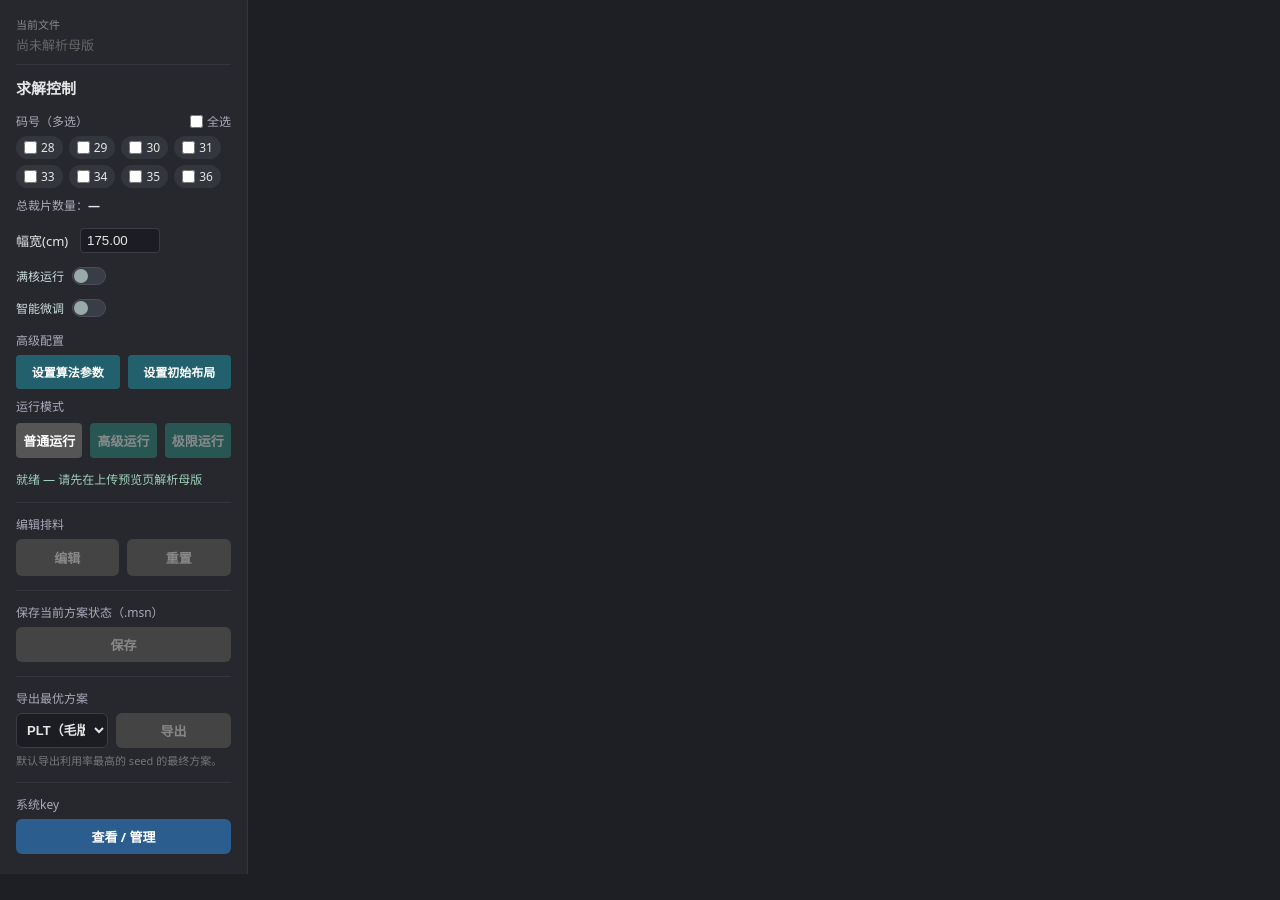
Test: NestingPage warm_state 状态行轻提示 (US-007) › final warm_state.engaged=false → 状态行无热启动尾缀 + toast 中文降级（互补不重复）
Click the checkbox with id "sz_28" at (30, 148), box [24,141,37,154]
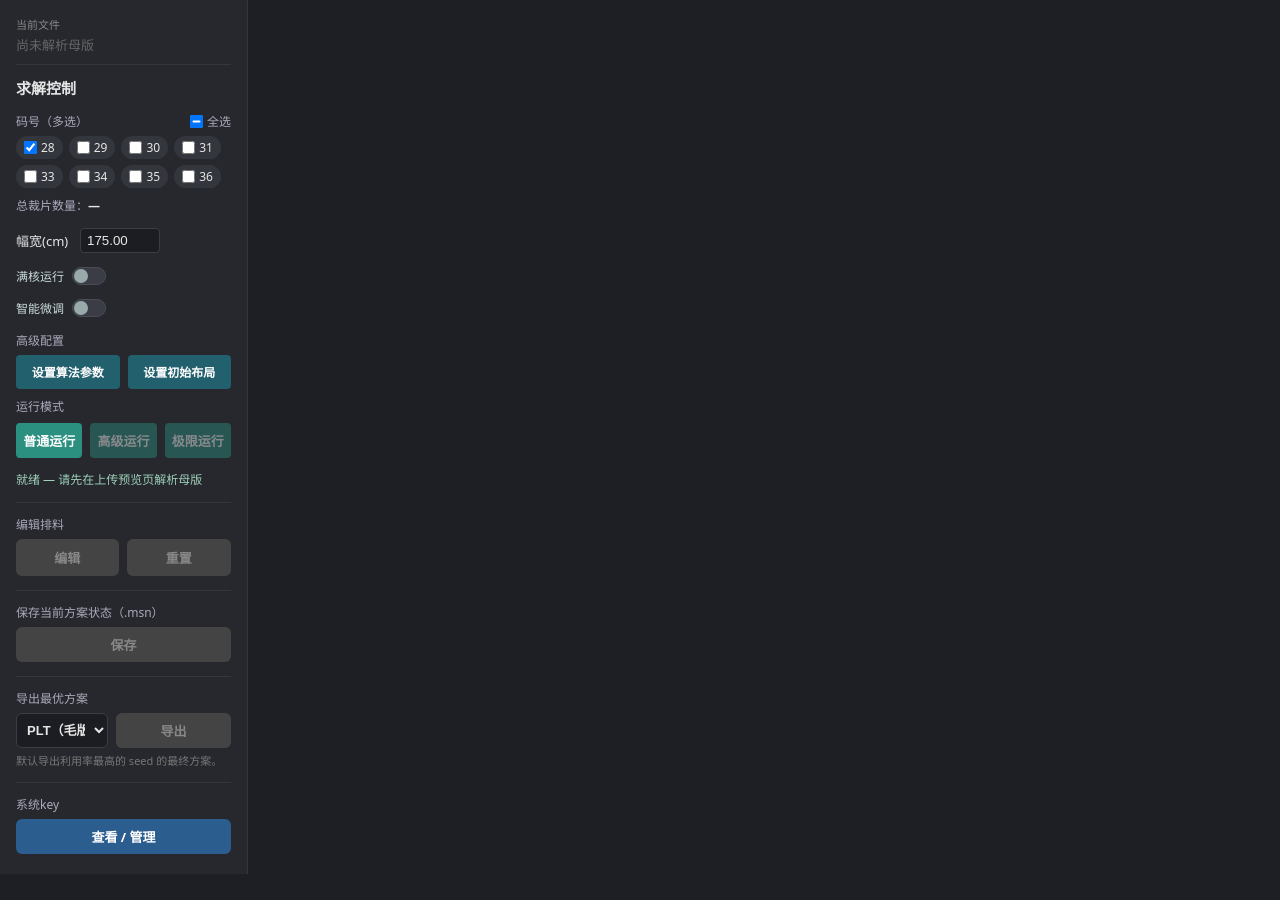
Click the button with id "start" at (49, 440), box [16,423,82,458]
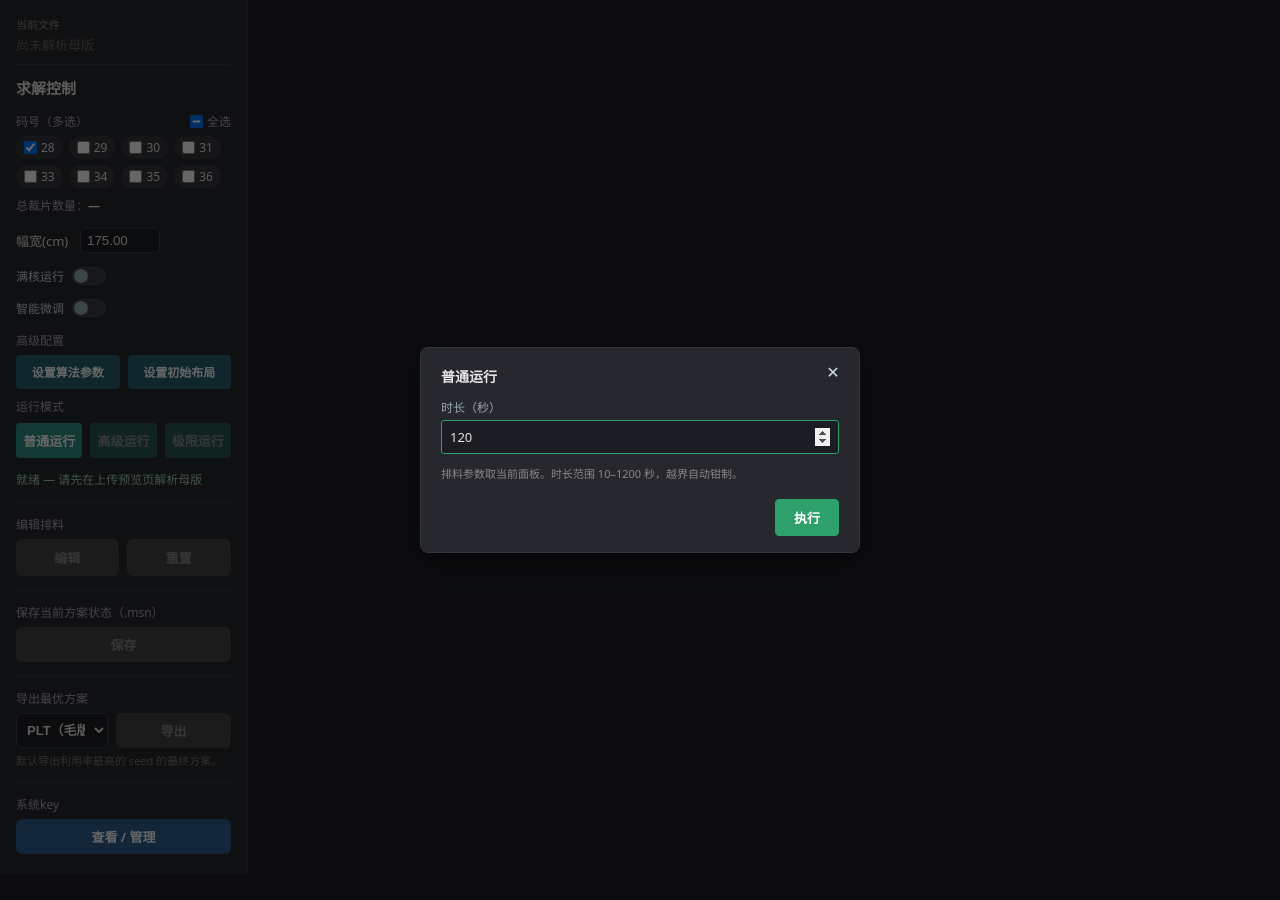
Click the button with test id "normal-run-confirm" at (807, 517), box [775,499,839,536]
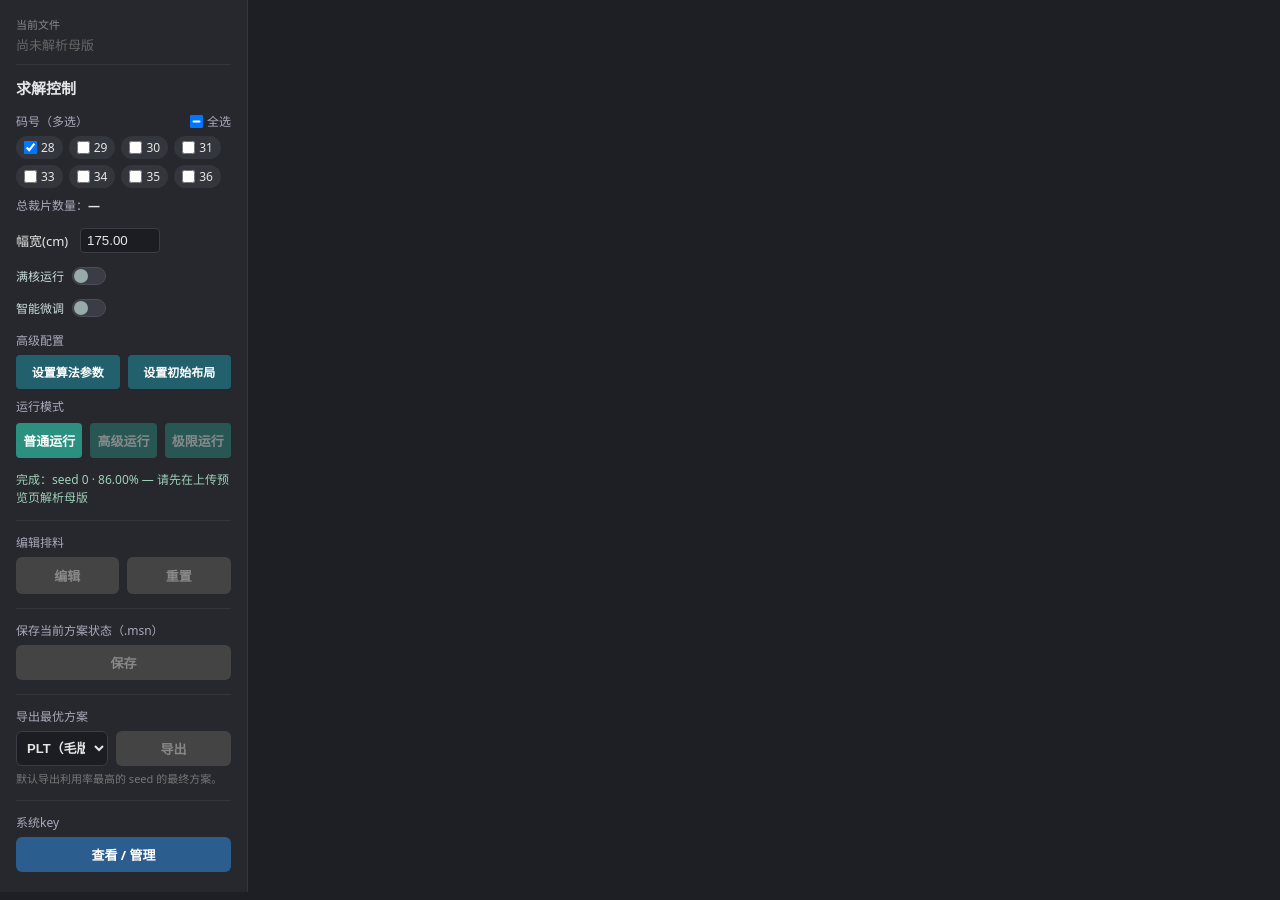
Expected: the text with class "status" shows "完成：seed 0", [16,471,229,506]
